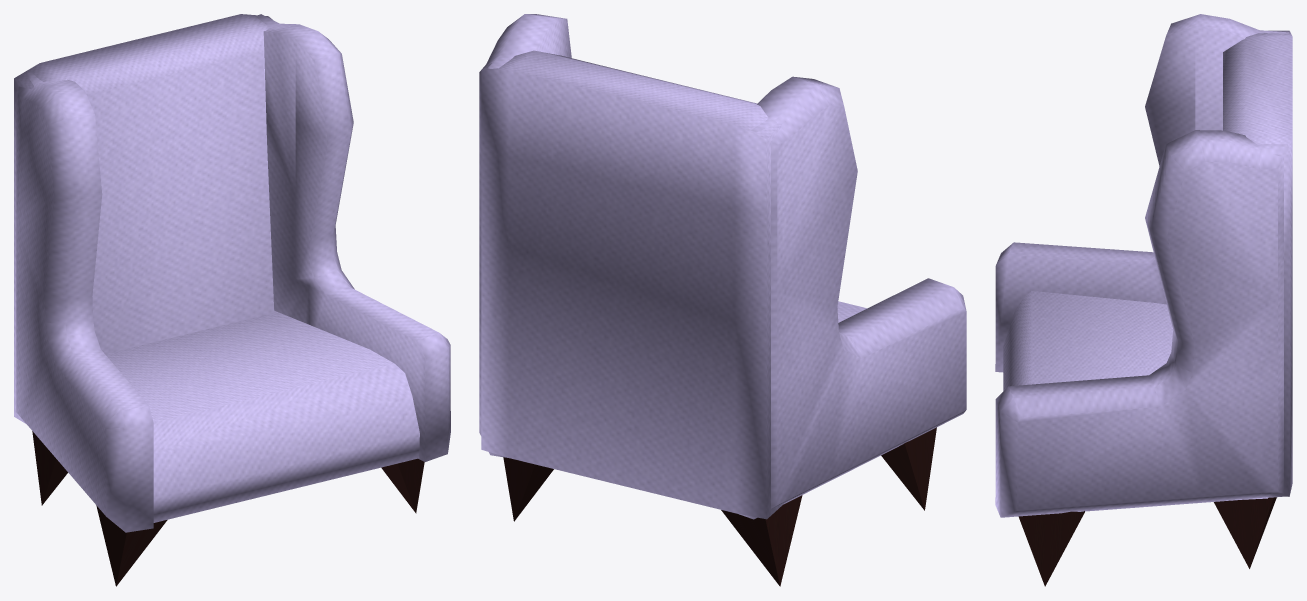
File: Winged_Armchair_E_2.FBX
3 views of the same model, side by side, from view 1: azimuth 30°, elevation 25°; view 2: azimuth 150°, elevation 25°; view 3: azimuth 270°, elevation 25° (orthographic). The views are drawn at different scales.
Parts seen in each view (by area): view 1: Winged_Armchair; view 2: Winged_Armchair; view 3: Winged_Armchair.
Boxes of the visible parts, box(x1,y1,x2,y2) form: Winged_Armchair: box(14, 14, 450, 586); Winged_Armchair: box(479, 14, 966, 586); Winged_Armchair: box(995, 14, 1292, 586).
Size of the model in its own units: 174 by 208 by 129.
